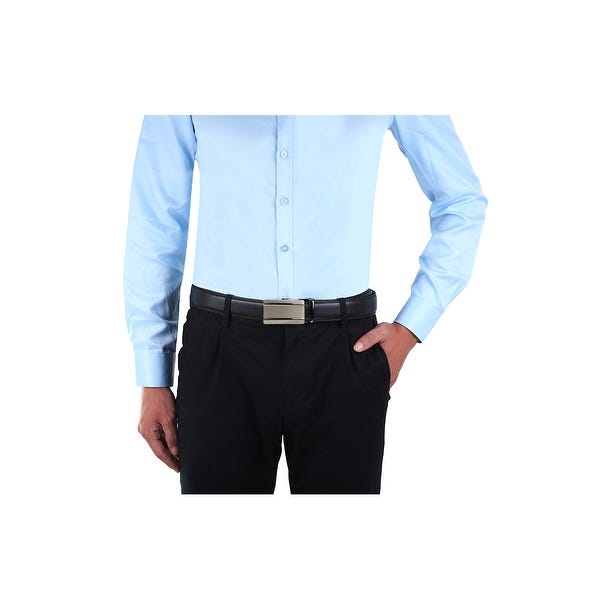F_belt: (184, 284, 389, 326)
F_shirt: (129, 113, 484, 391)
